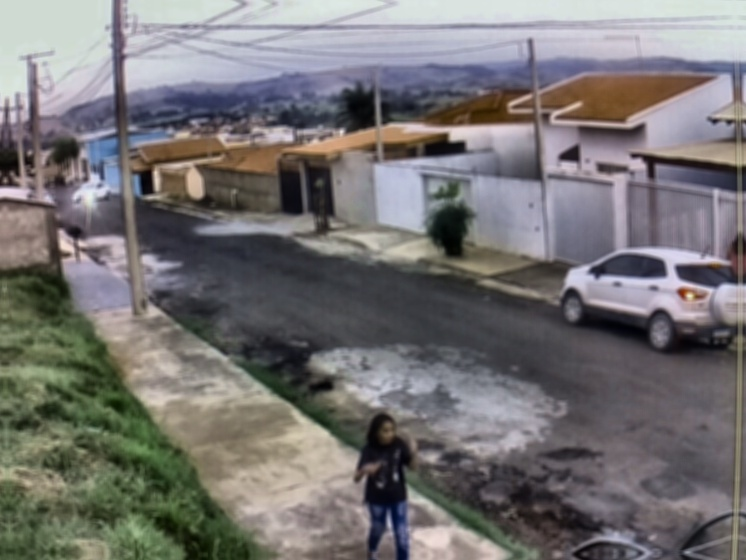person: (353, 409, 422, 560)
